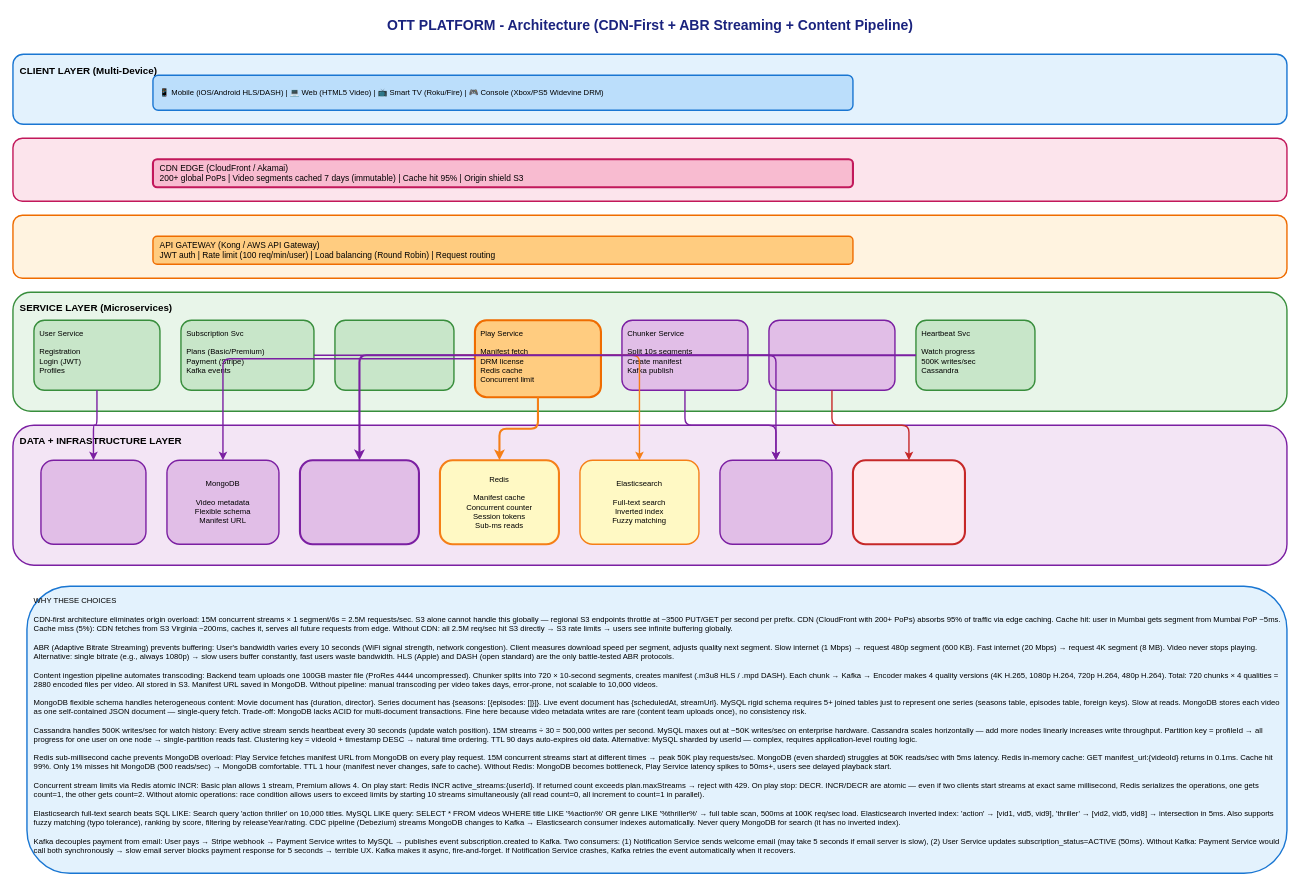
The diagram is 1299 pixels wide and 886 high, and some of its shapes have lost their labels. The box of each missing label's shape, as (x1, y1, x2, y2) in pixels:
API GATEWAY LAYER: (12, 214, 1287, 279)
Cassandra Watch history 500K writes/sec Time-series TTL 90 days: (299, 459, 420, 545)
EDGE LAYER (95% of video traffic served here): (12, 137, 1287, 202)
Encoder Service Transcode 4K/1080p 720p/480p H.265/H.264: (768, 319, 895, 391)
Kafka Payment events Video chunks Decouple services: (719, 459, 832, 545)
MySQL Users Payments Watchlist ACID: (40, 459, 146, 545)
S3 Encoded segments Manifest files Thumbnails 500 PB: (852, 459, 966, 545)
Search Service Elasticsearch Full-text query Filter/sort: (334, 319, 454, 391)
